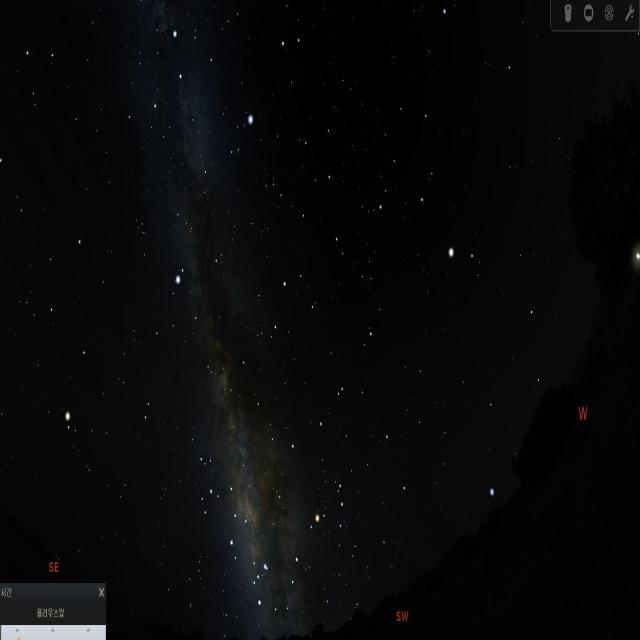aquila: (149, 237, 235, 401)
bootes: (389, 98, 481, 290)
cygnus: (147, 26, 225, 199)
lyra: (229, 112, 257, 162)
sagittarius: (187, 432, 238, 546)
scorpius: (248, 464, 349, 616)
